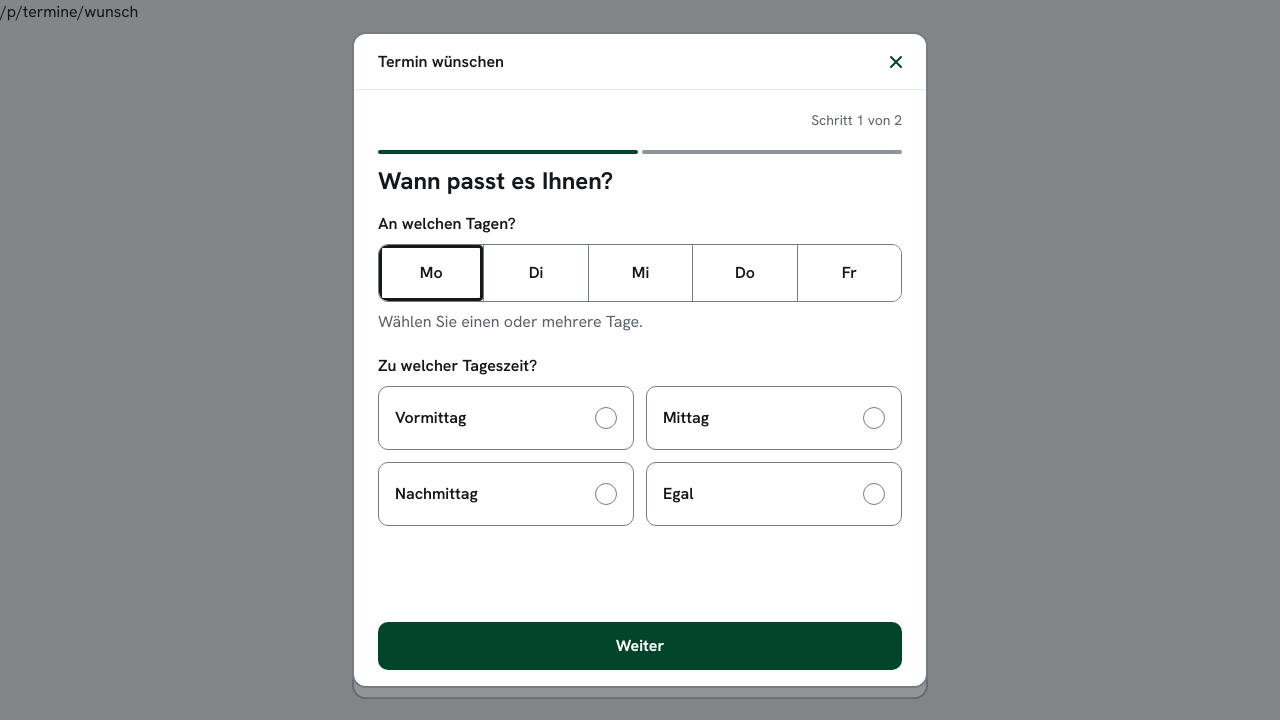
Terminwunsch (POR-009, Schritt 3d) › zeigt die Abweisung des Servers als Satz
This screenshot has width=1280, height=720.
Click the button named "Montag" at point(431, 273), box [379, 245, 483, 301]
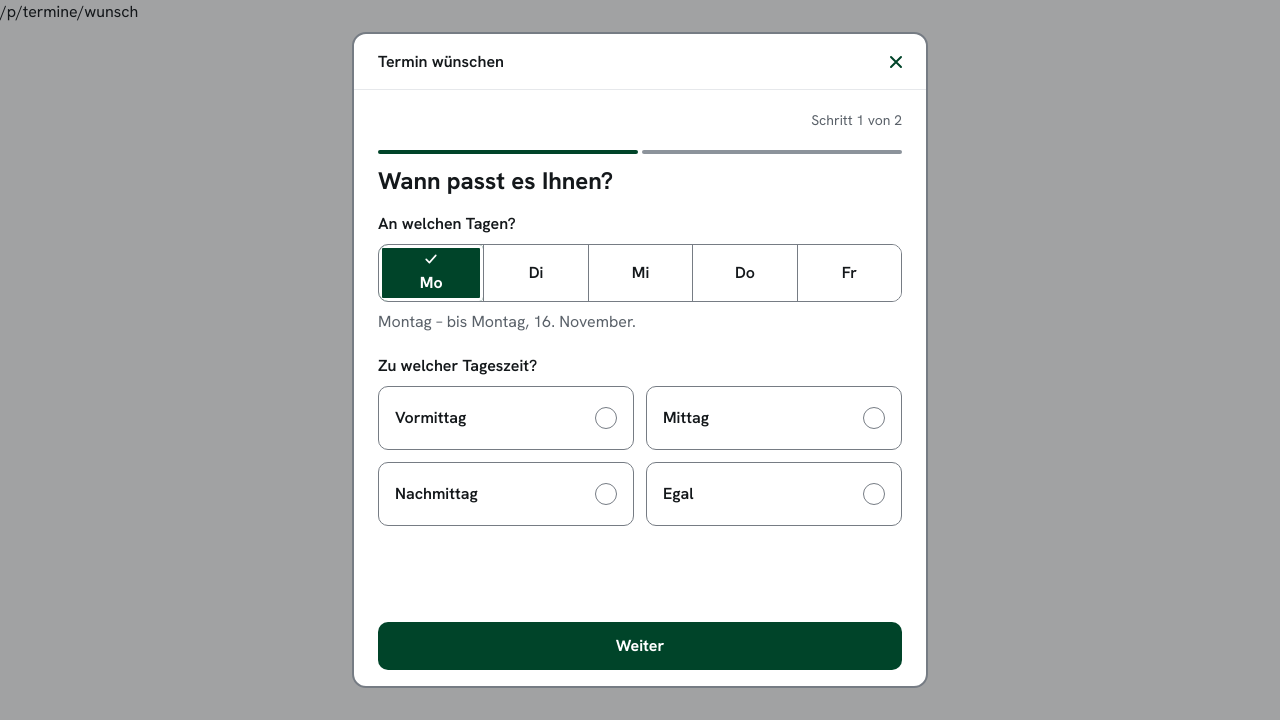
Click the button "Vormittag" at point(506, 418), box [378, 386, 634, 450]
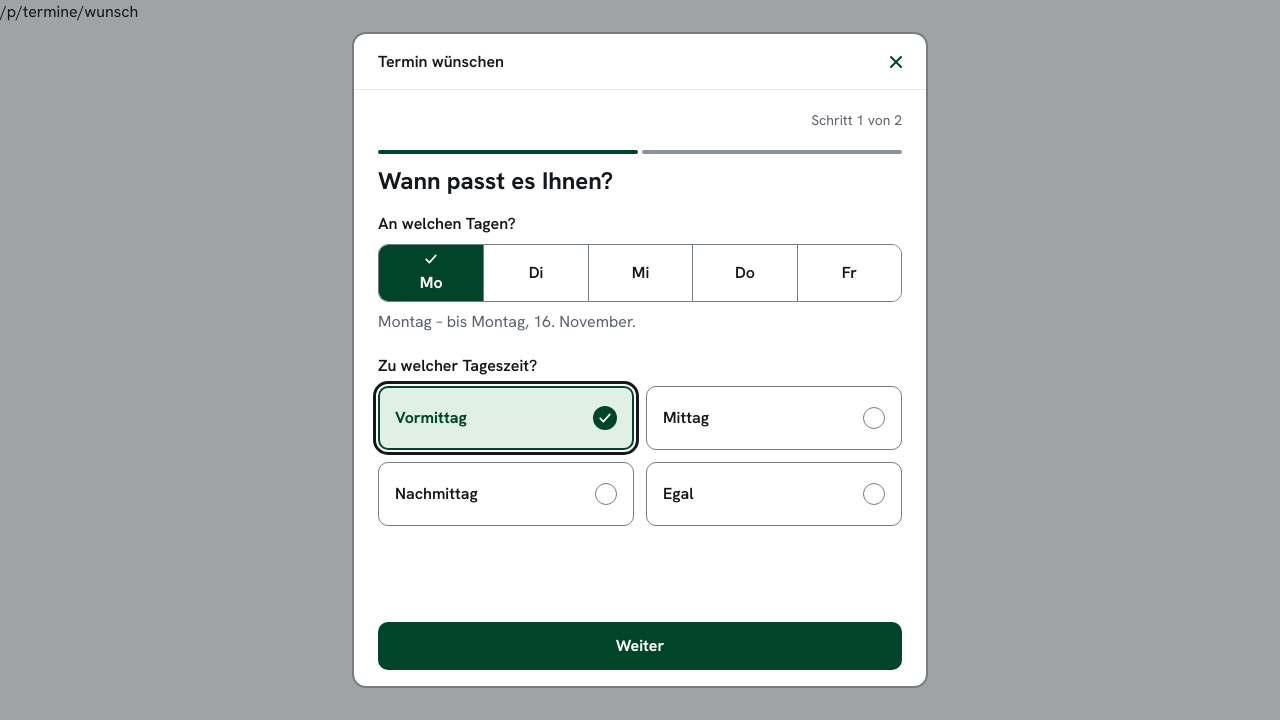
Click the button "Weiter" at point(640, 646), box [378, 622, 902, 670]
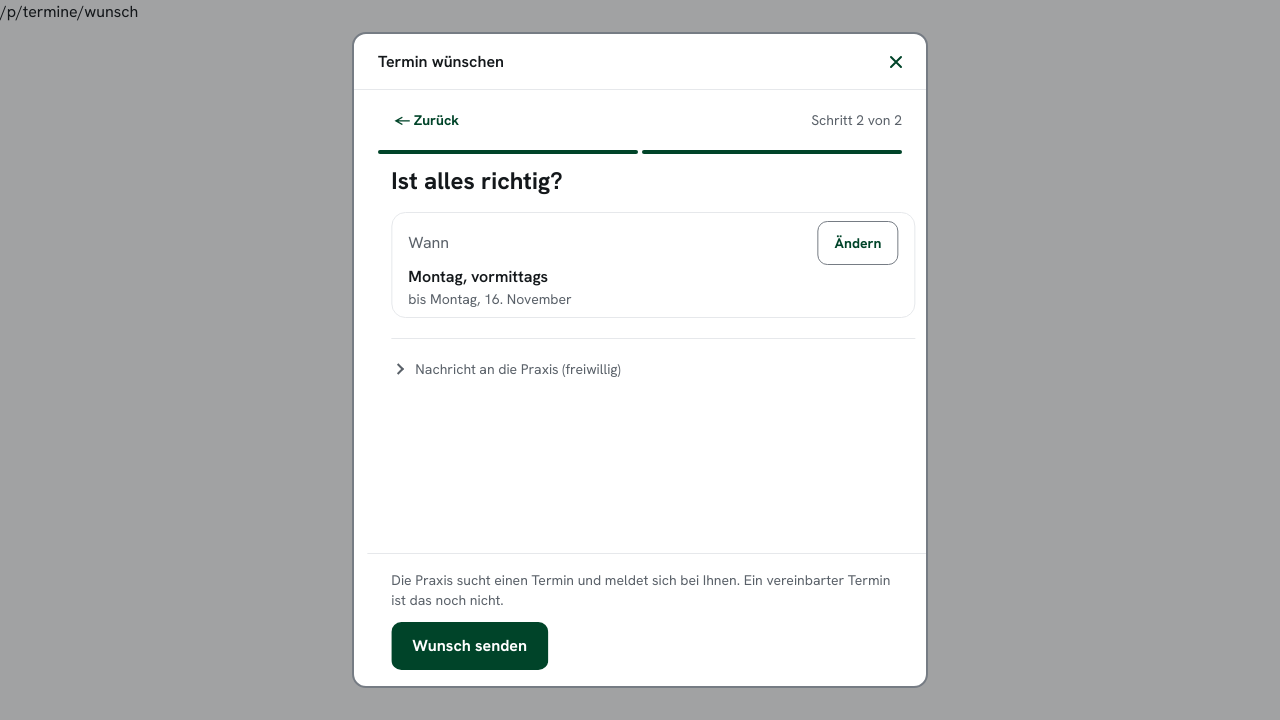
Click the button "Wunsch senden" at point(460, 646), box [382, 622, 539, 670]
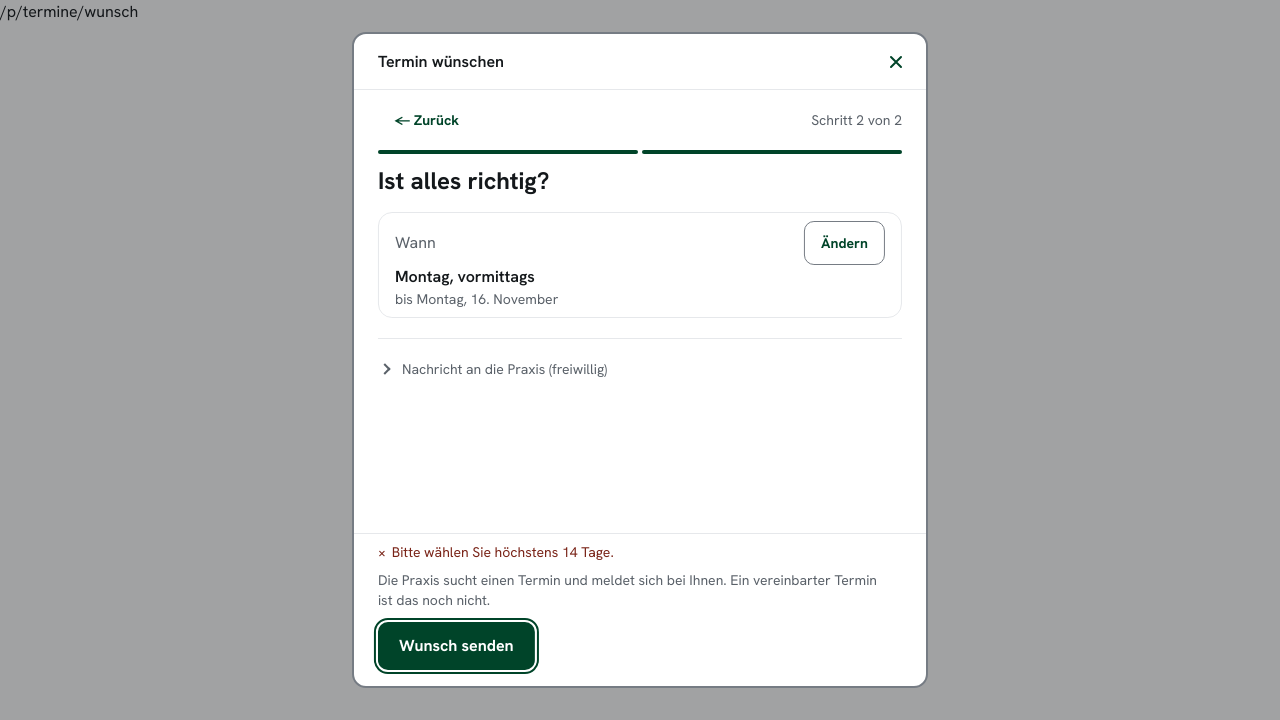
Expected: the dialog "Ist alles richtig?" is shown, [352, 32, 928, 688]
Expected: the message shows "höchstens 14 Tage", [392, 543, 614, 561]
